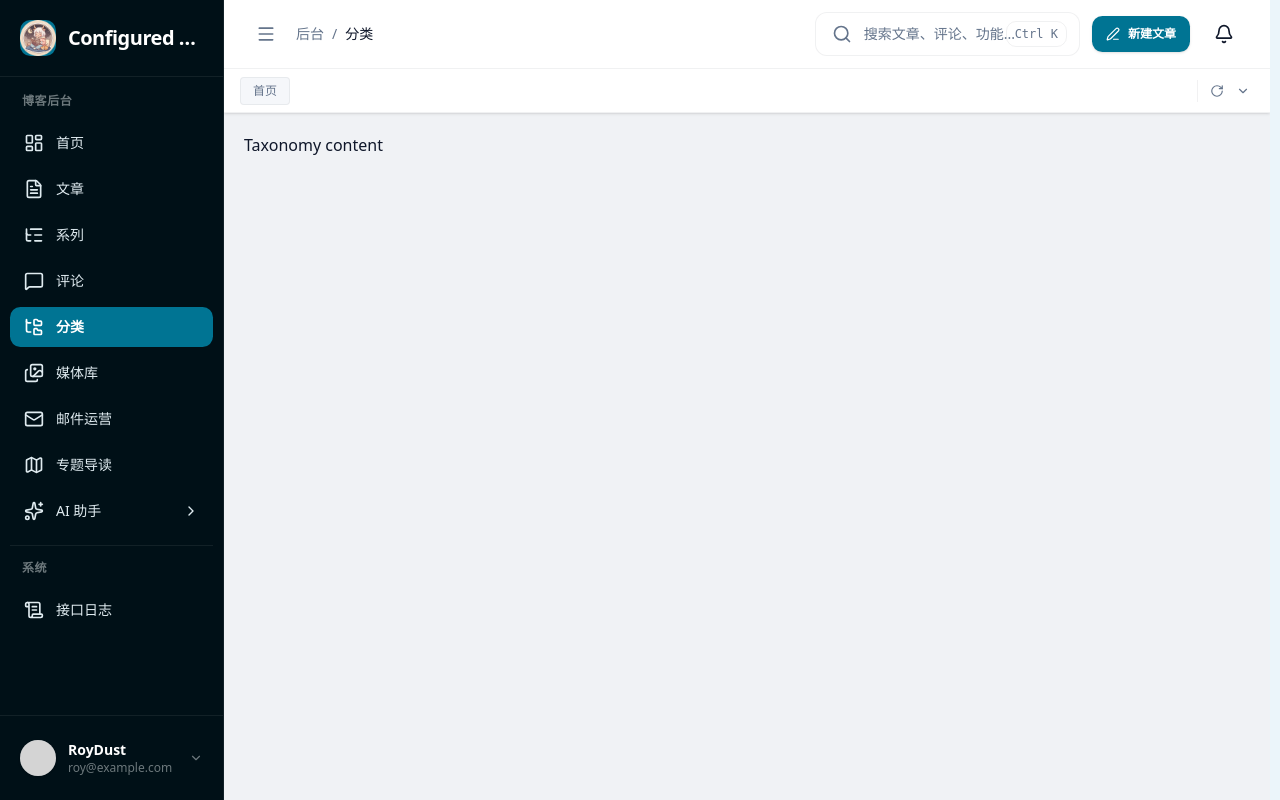
Scenario: admin layout › renders lightweight blog navigation, static toolbar, and workspace framing
expect the navigation bar named "Admin navigation" is shown: met, box [0,77,223,715]
expect the text "博客后台" is shown: met, box [22,92,72,109]
Click the heading "AI 助手" at (79, 510), box [24,501,199,521]
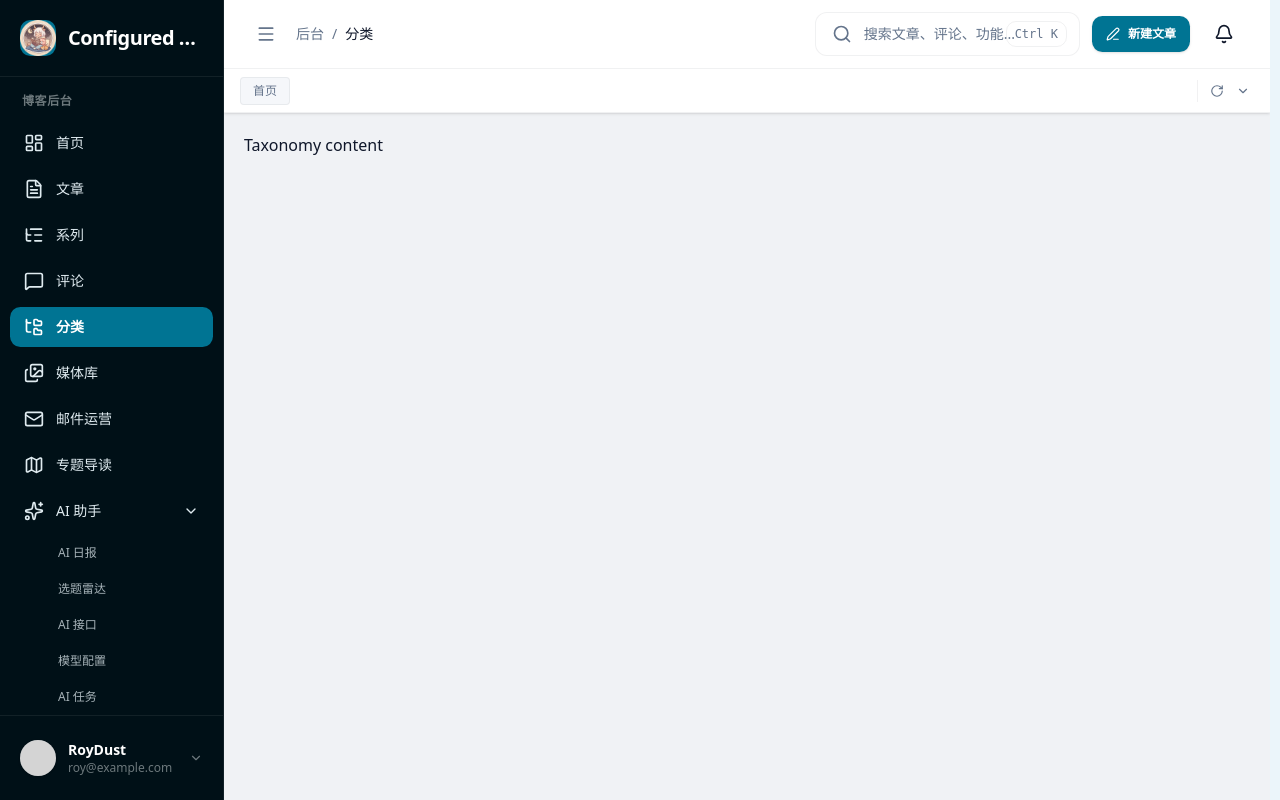
expect the link "设置" is not shown: met
expect the text "AI 助手" has attribute open: met, box [10,491,213,713]
Press ArrowDown in the button with aria-label "RoyDust 账号菜单", box [12,732,211,784]
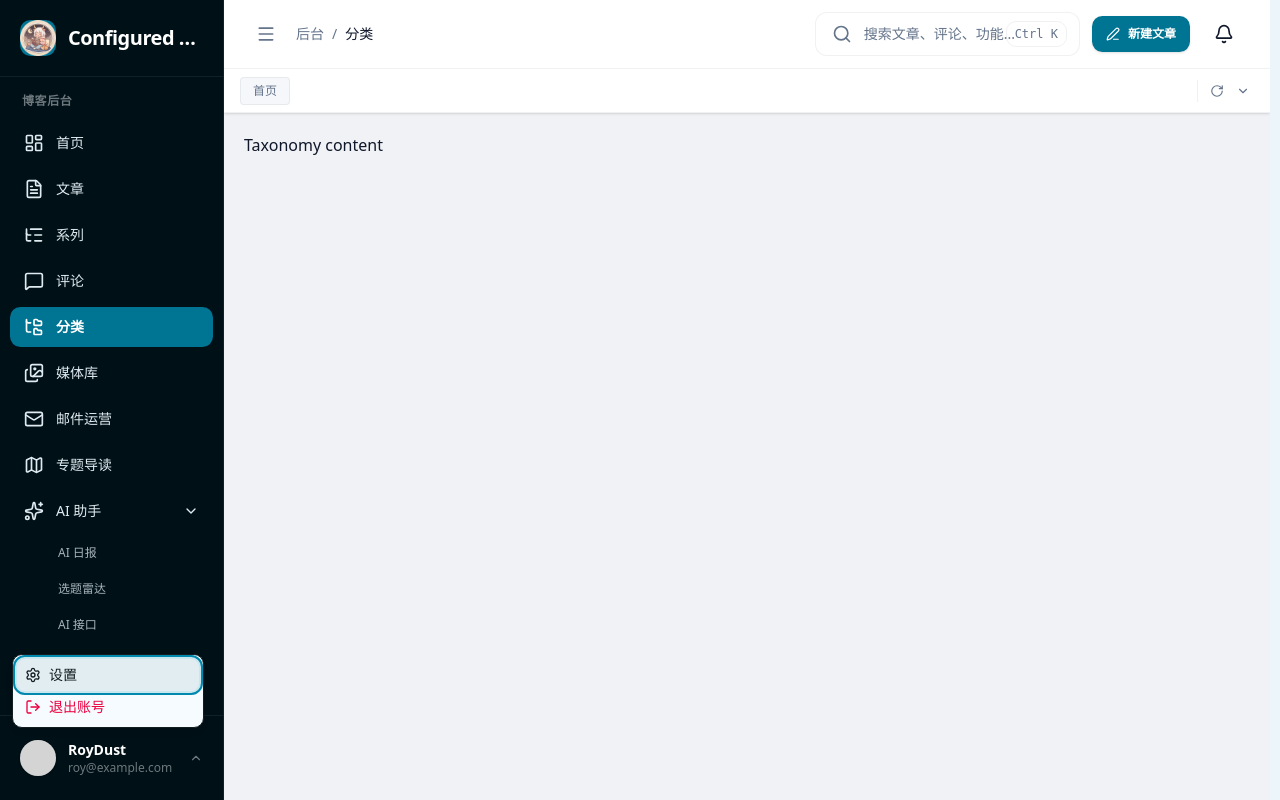
expect the text "Taxonomy content" is shown: met, box [244,134,383,156]
expect the menu item "退出账号" is shown: met, box [25,697,105,716]
Click the button with aria-label "打开后台全局搜索" at (947, 34), box [815,12,1080,56]
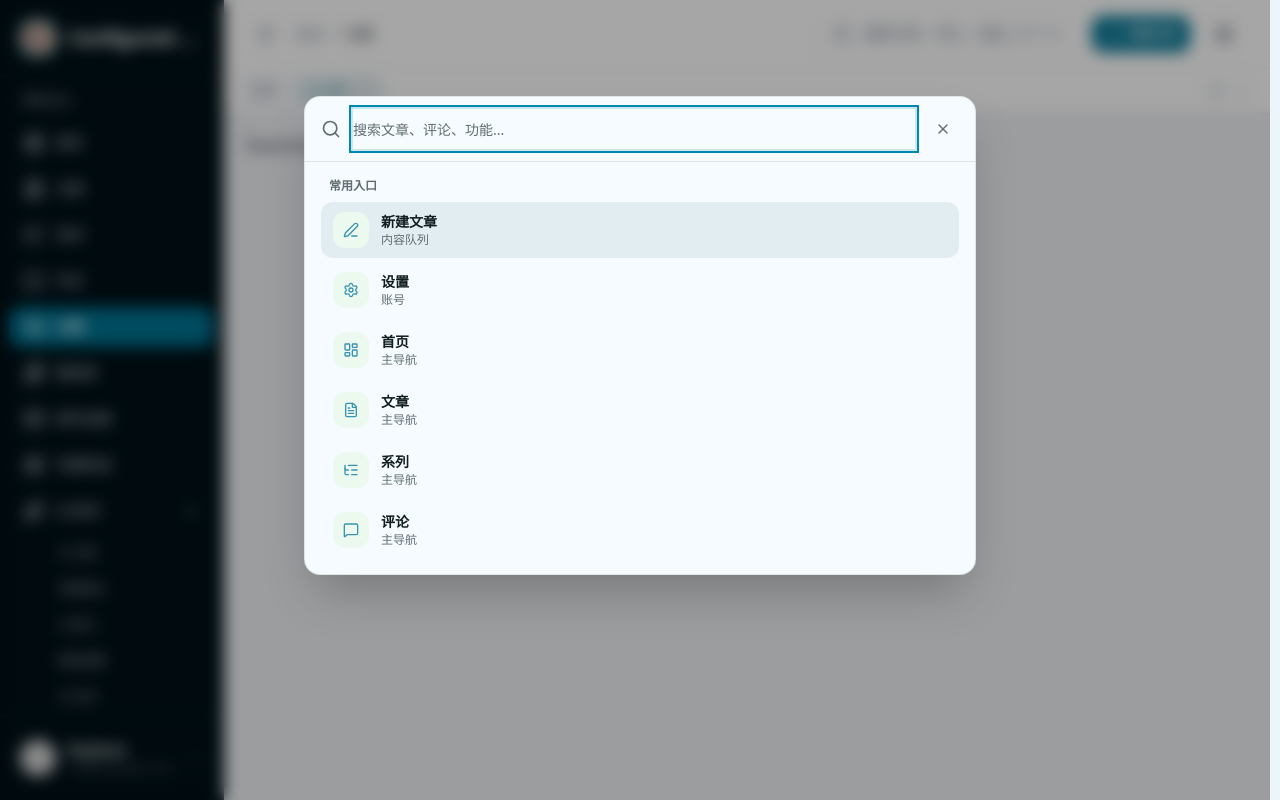
expect the dialog named "后台全局搜索" is shown: met, box [304,96,976,575]
expect the dropdown with placeholder "搜索文章、评论、功能..." is shown: met, box [353,109,915,149]
expect the text "常用入口" is shown: met, box [329,177,377,194]
